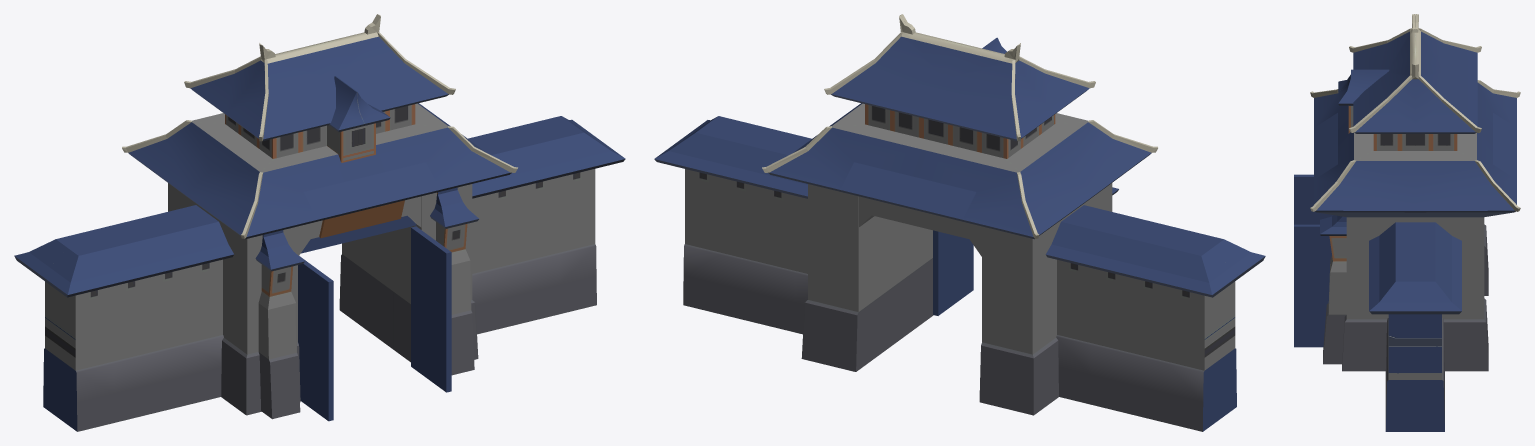
The model's file is n_snow_m_empiregate_03.fbx.
3 renders of one model, left to right at view 1: azimuth 30°, elevation 25°; view 2: azimuth 150°, elevation 25°; view 3: azimuth 270°, elevation 25°, orthographic. The views are drawn at different scales.
Visible parts, largest first — view 1: Box02; view 2: Box02; view 3: Box02.
Boxes of the visible parts, x1=… form: Box02: x1=14, y1=14, x2=625, y2=431; Box02: x1=654, y1=14, x2=1265, y2=431; Box02: x1=1294, y1=14, x2=1520, y2=431.
Bounding box in the file's own units: 36.58 × 20.45 × 14.85.
